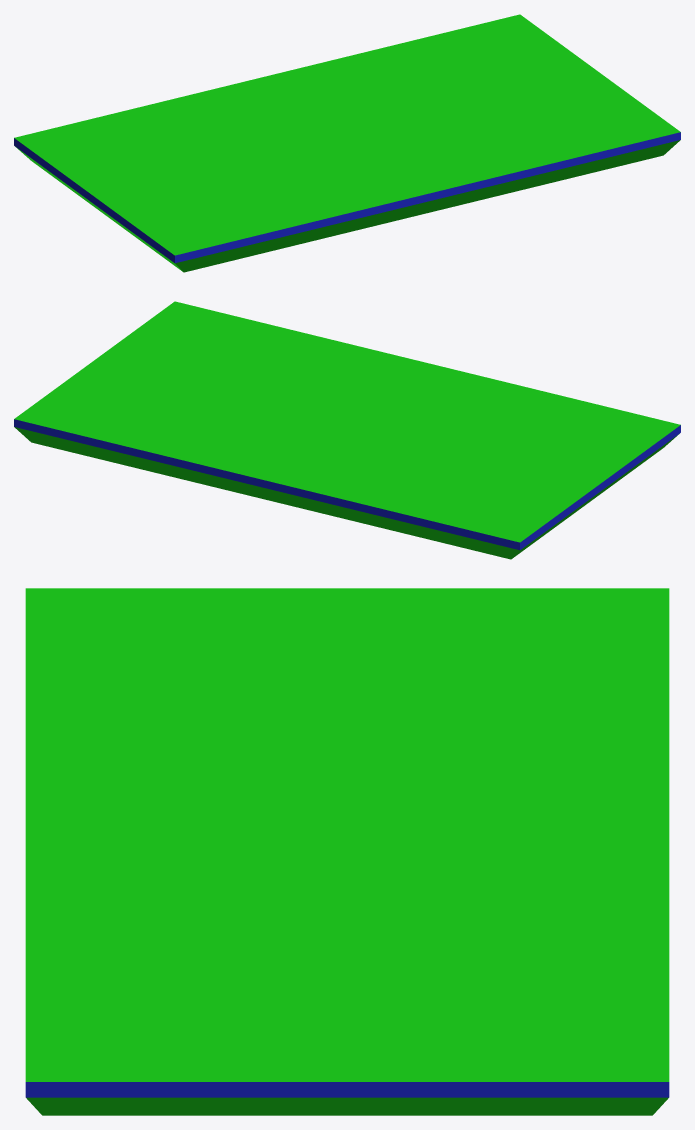
Rendered from light_on.gltf.
The picture shows the model from 3 angles, top to bottom: view 1: azimuth 30°, elevation 25°; view 2: azimuth 150°, elevation 25°; view 3: azimuth 270°, elevation 25°; orthographic projection. The views are drawn at different scales.
Visible parts, largest first — view 1: Plane.009; view 2: Plane.009; view 3: Plane.009.
Part boxes in pixels (x1,y1,x2,y2): Plane.009: [14, 14, 680, 272]; Plane.009: [14, 301, 680, 559]; Plane.009: [25, 588, 669, 1115].
Size of the model in its own units: 1.78 by 0.0782 by 0.98.
